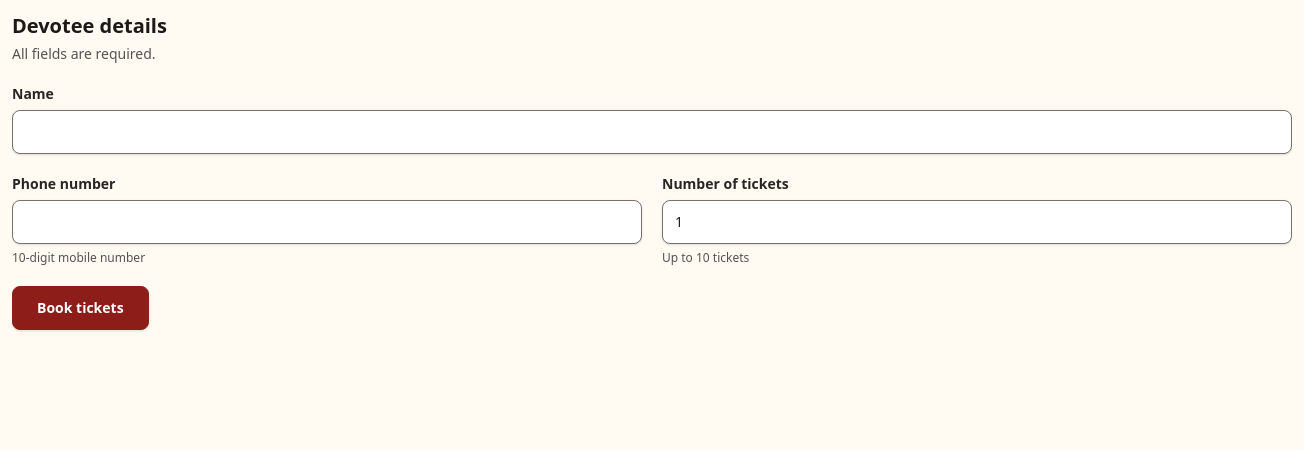
BookingForm › does not offer a retry when the server rejects the booking
Type "Anil Kumar" into the field labelled "Name" at (652,132), box [12, 110, 1292, 154]
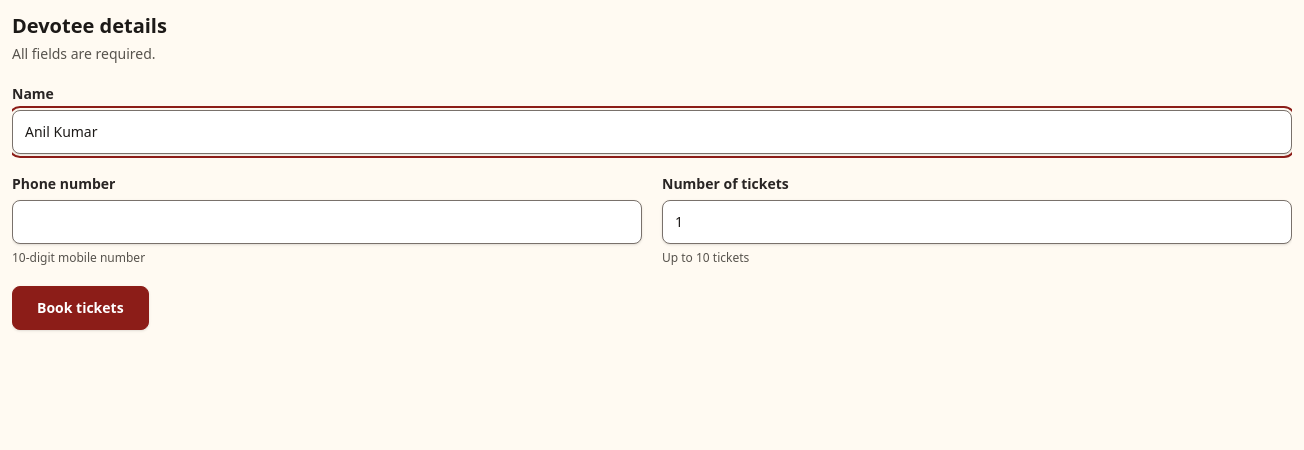
Type "9876543210" into the field labelled "Phone number" at (327,222), box [12, 200, 642, 244]
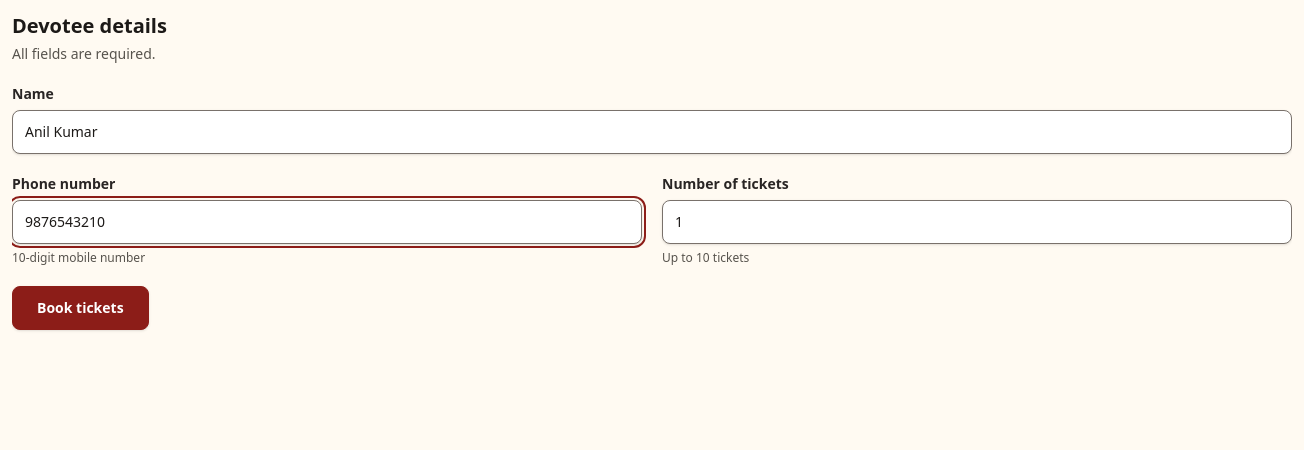
Replace the text in the number field labelled "Number of tickets" with "3" at (977,222), box [662, 200, 1292, 244]
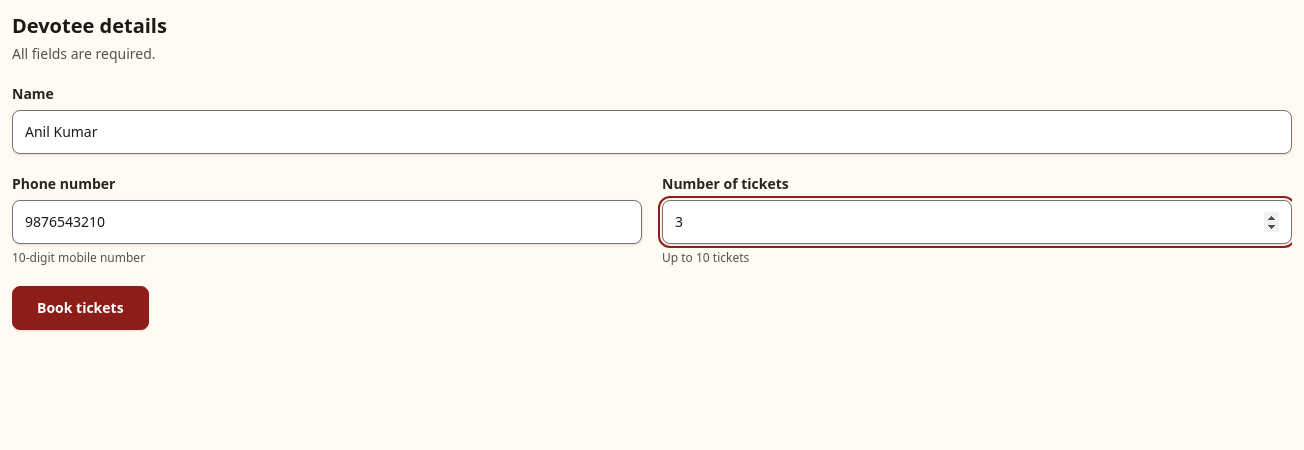
Click the button "Book tickets" at (80,308), box [12, 286, 149, 330]
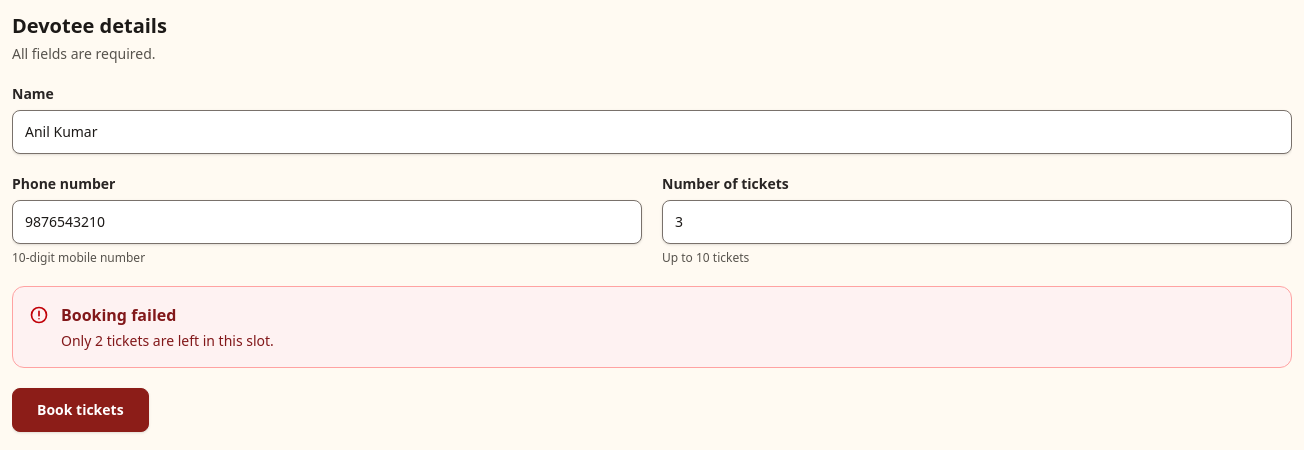
Result: the message shows "Only 2 tickets are left" at [61, 331, 274, 350]
